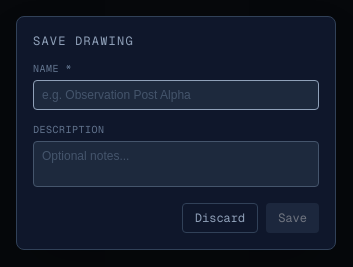
FeatureDialog › Save button is enabled when name has text
Type "Obs Post" into the field with test id "feature-dialog-name" at (176, 95), box [33,80,319,110]
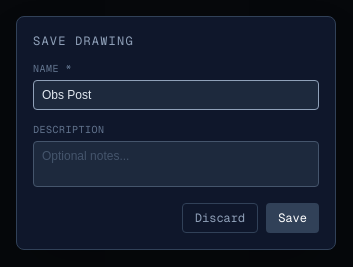
Result: the button with test id "feature-dialog-save" is enabled at [266,203,319,233]
